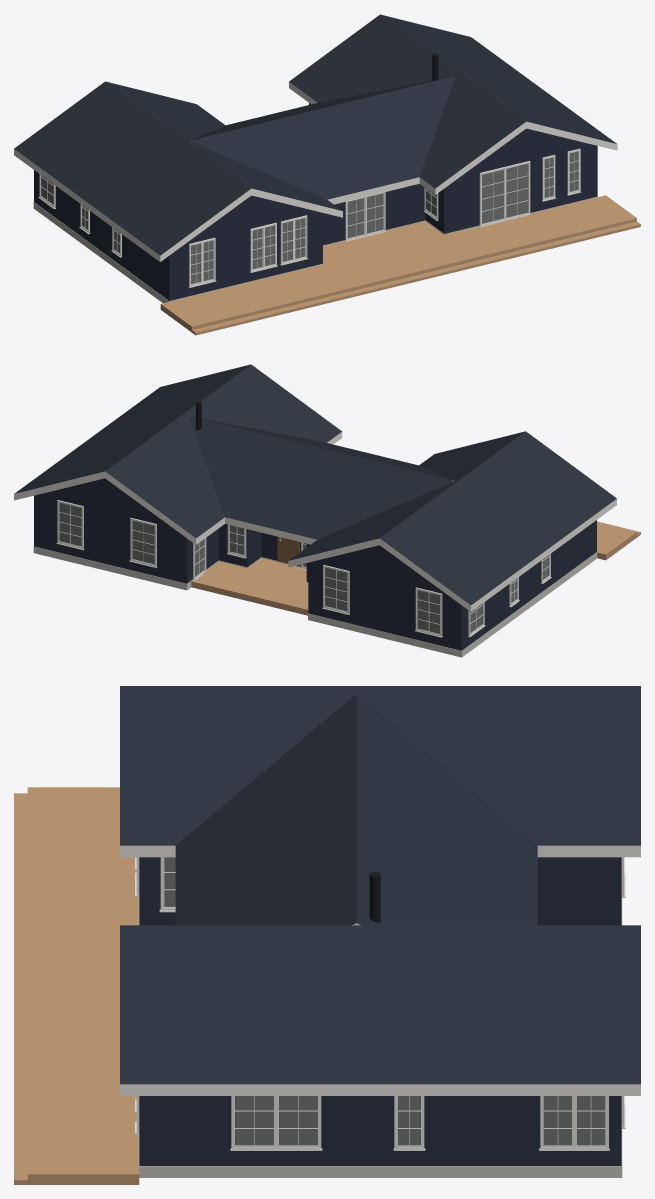
File: teder187_c0_p0_m1.glb
The picture shows the model from 3 angles, top to bottom: view 1: azimuth 30°, elevation 25°; view 2: azimuth 150°, elevation 25°; view 3: azimuth 270°, elevation 25°; orthographic projection. The views are drawn at different scales.
Visible parts, largest first — view 1: roof, deck, wall, glass, curtain, frame, fascia, plinth; view 2: roof, wall, deck, glass, fascia, curtain, plinth, frame, door; view 3: roof, deck, wall, glass, curtain, fascia, plinth, frame.
Boxes of the visible parts, left/top/right/bottom form: roof: left=14, top=14, right=616, bottom=255; deck: left=160, top=195, right=640, bottom=335; wall: left=34, top=103, right=597, bottom=300; glass: left=41, top=151, right=578, bottom=284; curtain: left=41, top=151, right=577, bottom=283; frame: left=38, top=148, right=581, bottom=287; fascia: left=14, top=82, right=617, bottom=261; plinth: left=33, top=196, right=597, bottom=303; roof: left=14, top=364, right=616, bottom=605; wall: left=34, top=478, right=596, bottom=650; deck: left=191, top=521, right=640, bottom=615; glass: left=59, top=503, right=548, bottom=633; fascia: left=14, top=432, right=616, bottom=611; curtain: left=59, top=503, right=548, bottom=633; plinth: left=33, top=546, right=597, bottom=657; frame: left=56, top=500, right=551, bottom=637; door: left=277, top=536, right=299, bottom=566; roof: left=120, top=686, right=640, bottom=1084; deck: left=14, top=787, right=139, bottom=1184; wall: left=139, top=857, right=621, bottom=1165; glass: left=164, top=857, right=605, bottom=1145; curtain: left=164, top=857, right=605, bottom=1145; fascia: left=120, top=845, right=640, bottom=1095; plinth: left=138, top=897, right=622, bottom=1177; frame: left=135, top=857, right=625, bottom=1150.
Bounding box in the file's own units: 21.93 × 5.66 × 14.62.
12 materials, 5 textured.
